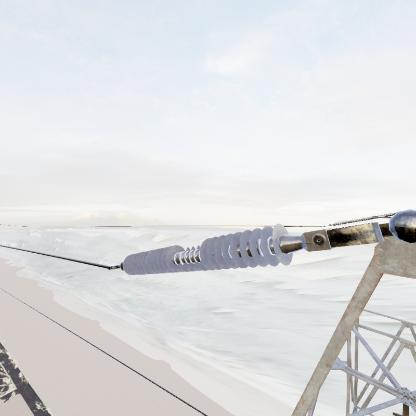insulator: (119, 221, 297, 276)
